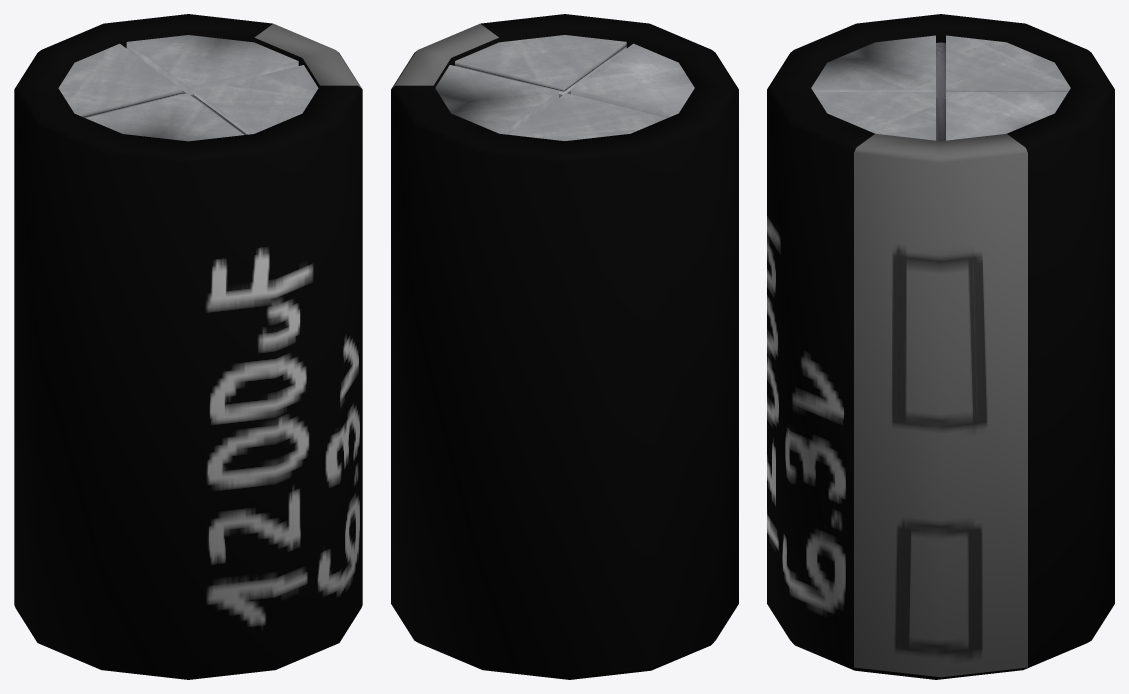
File: kondensator_2.fbx
3 views of the same model, side by side, from view 1: azimuth 30°, elevation 25°; view 2: azimuth 150°, elevation 25°; view 3: azimuth 270°, elevation 25° (orthographic).
Visible parts, largest first — view 1: Kondensator; view 2: Kondensator; view 3: Kondensator.
Part boxes in pixels (<box>): Kondensator: <box>14,14,362,679</box>; Kondensator: <box>391,14,738,679</box>; Kondensator: <box>767,14,1114,679</box>.
Size of the model in its own units: 200 by 331 by 200.
